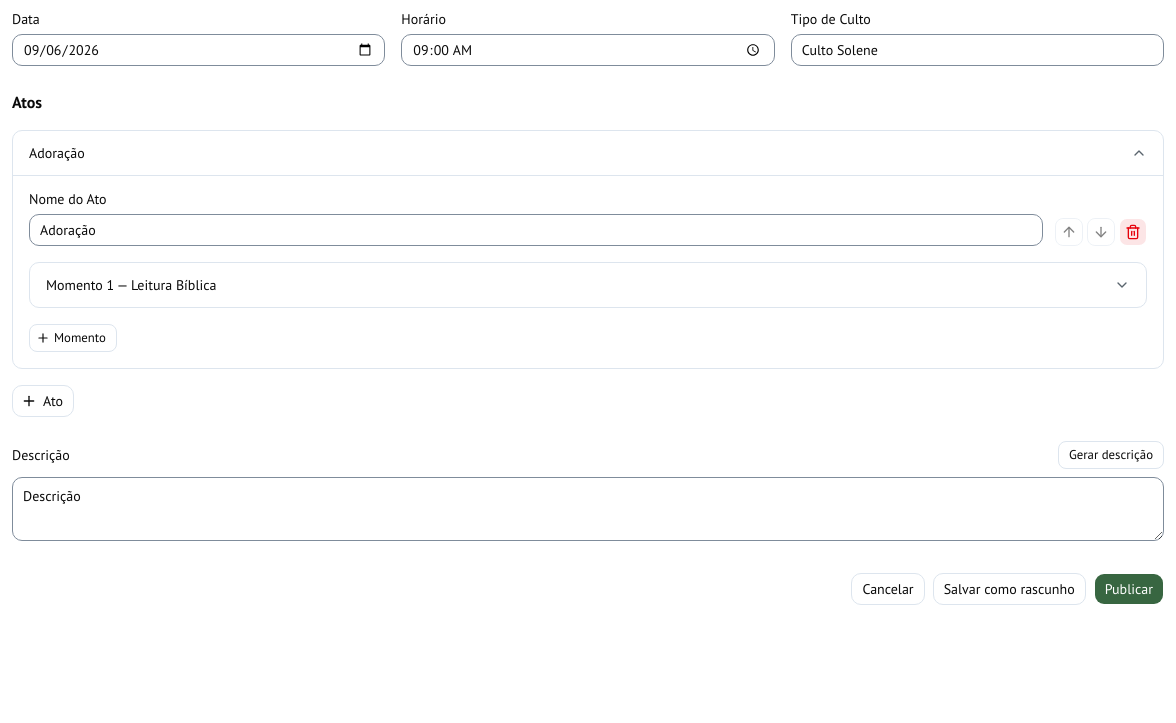
Test: LiturgyForm passages › fills the text and says how many verses the Referência Bíblica resolved
Click the button "Momento 1 — Leitura Bíblica": (76, 285) x1=30 y1=263 x2=1146 y2=307
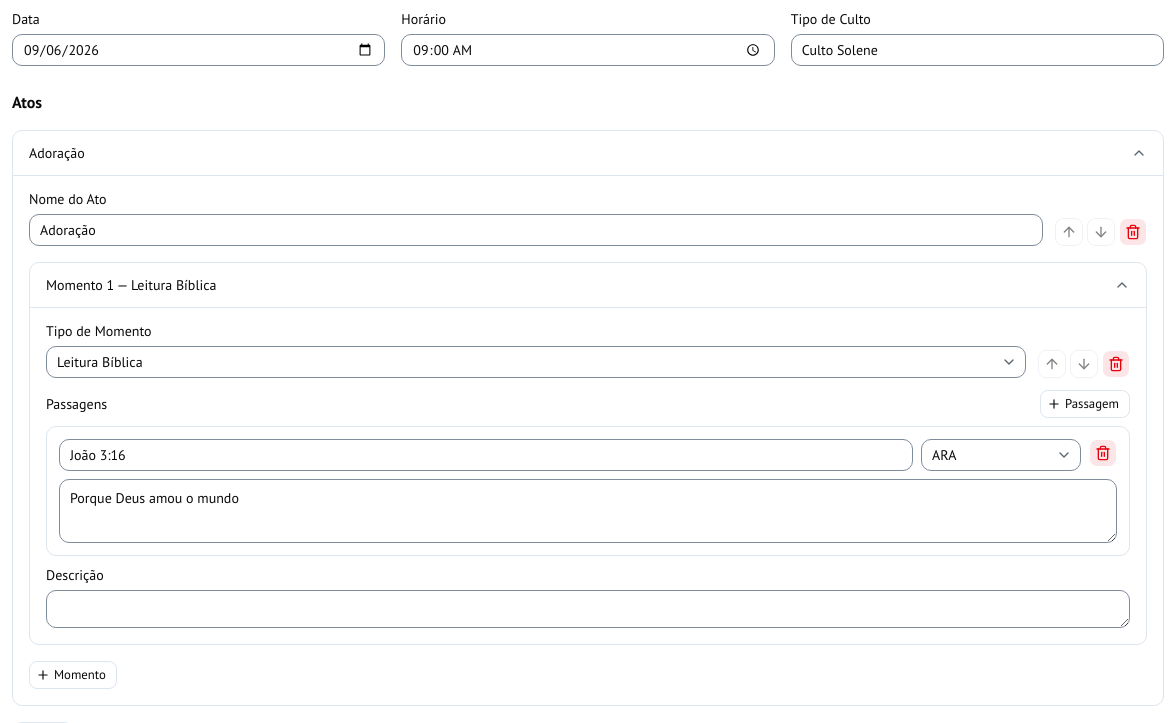
Replace the text in the field with placeholder "Referência" with "sl 23": (486, 455) x1=59 y1=439 x2=913 y2=471
Wait 1000 ms
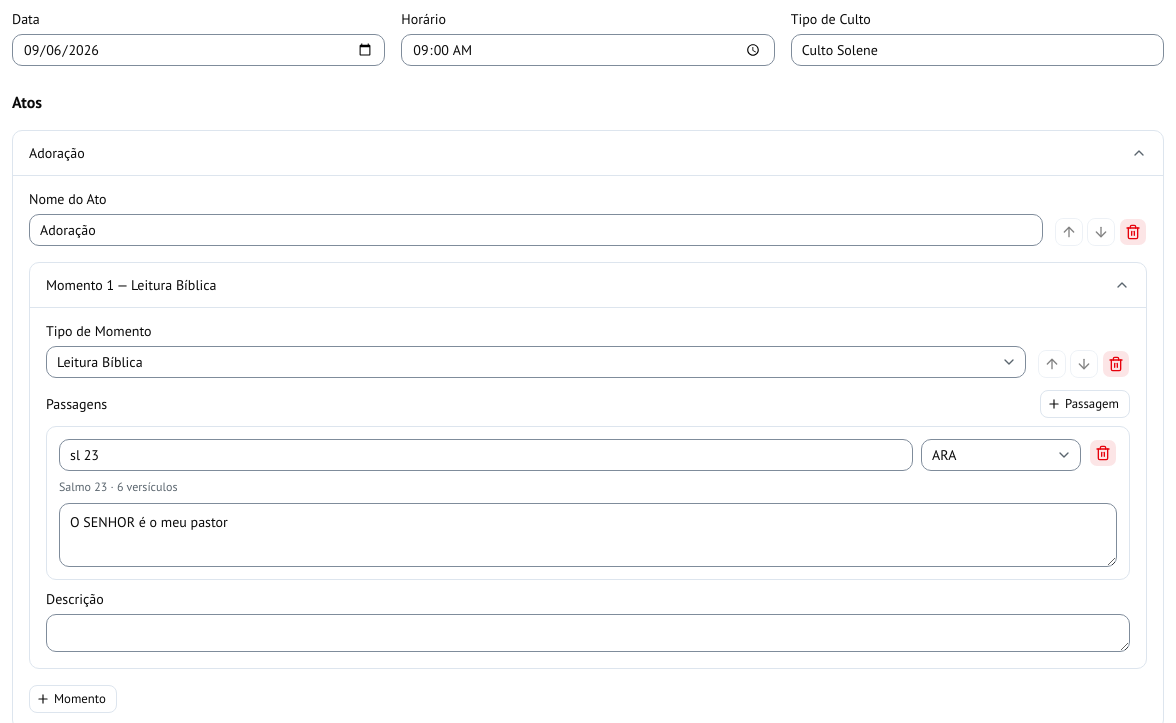
Expected: the text "Salmo 23 · 6 versículos" is shown, x1=59 y1=479 x2=178 y2=494
